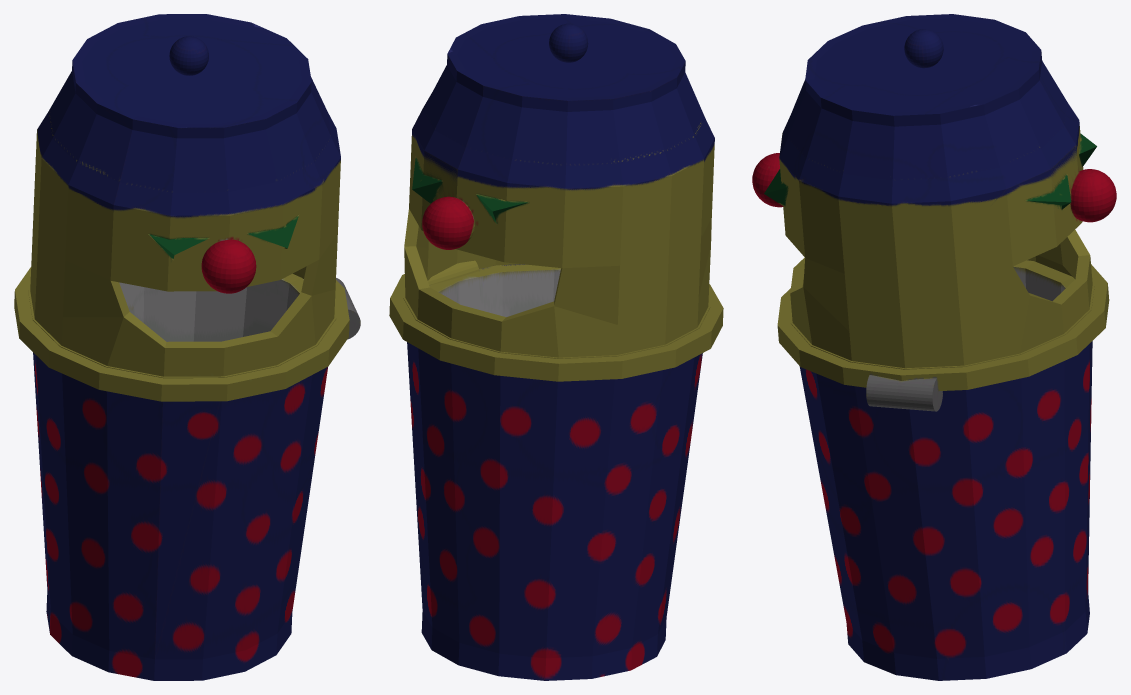
The model's file is Lixeirapalhacofinal.fbx.
3 renders of one model, left to right at view 1: azimuth 30°, elevation 25°; view 2: azimuth 150°, elevation 25°; view 3: azimuth 270°, elevation 25°, orthographic.
Parts seen in each view (by area): view 1: node_id6, node_id7, node_id5, node_id8; view 2: node_id6, node_id7, node_id4, node_id8; view 3: node_id6, node_id7, node_id4.
Boxes of the visible parts, x1,y1,x2,y2 form: node_id6: (14,14,360,401); node_id7: (33,273,327,680); node_id5: (247,215,298,248); node_id8: (148,234,209,260); node_id6: (389,14,723,381); node_id7: (407,264,702,680); node_id4: (412,156,442,203); node_id8: (476,194,528,224); node_id6: (752,14,1116,411); node_id7: (799,260,1092,680); node_id4: (1025,174,1071,209).
Size of the model in its own units: 0.2577 by 0.4957 by 0.2706.
5 materials, 5 textured.
